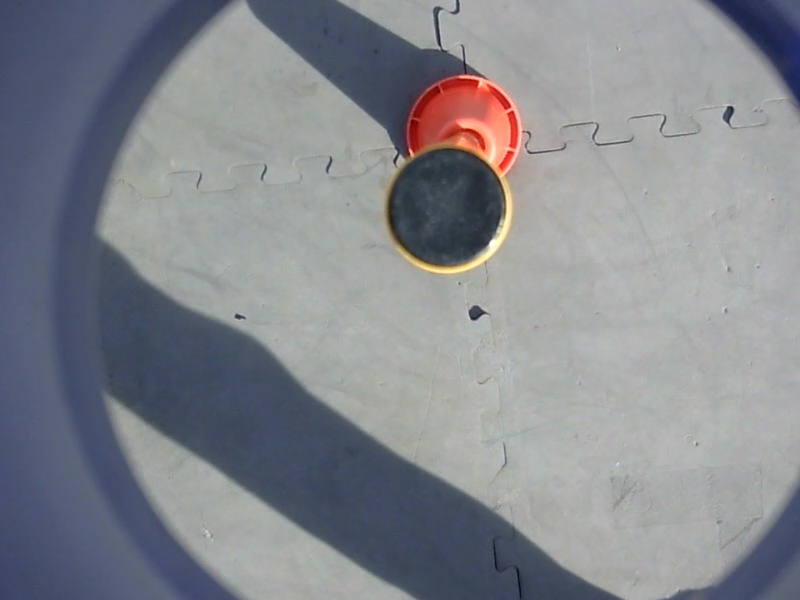tip: (371, 139, 518, 285)
